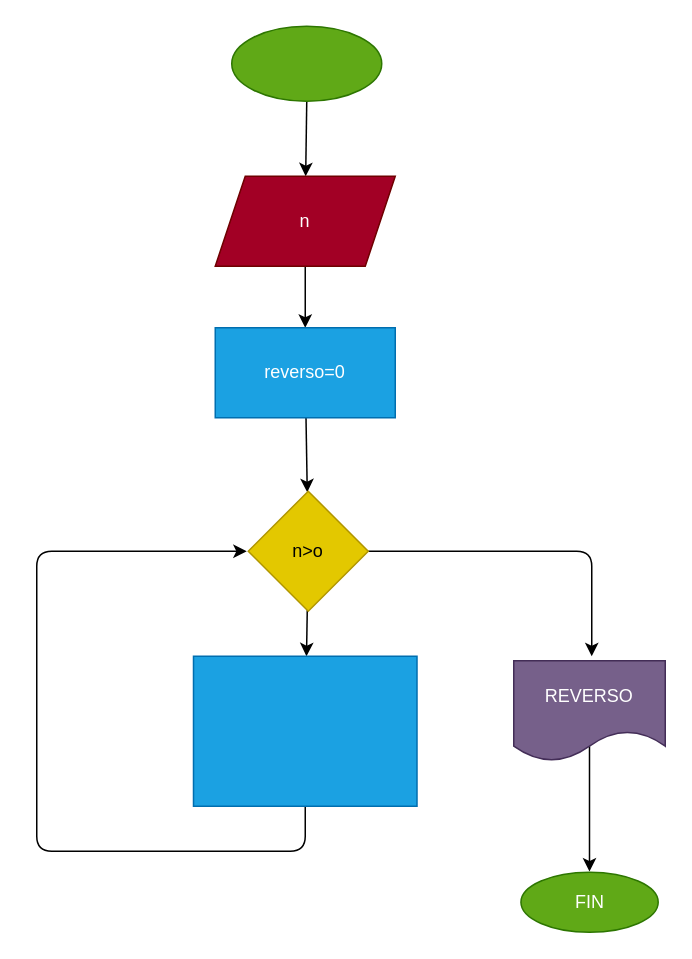
The diagram is 692 pixels wide and 959 high, and some of its shapes have lost their labels. The shapes that lost their labels are listed below. From the top down, each one's centre as x and y in pixels, then its label:
At point 306,63: "INICIO".
At point 304,730: "cifra=n%10 reverso=reverso*10+cifra n=n//10".
